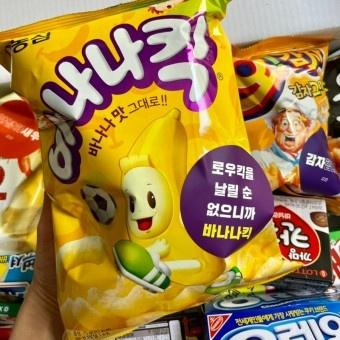snack: (0, 0, 304, 340)
